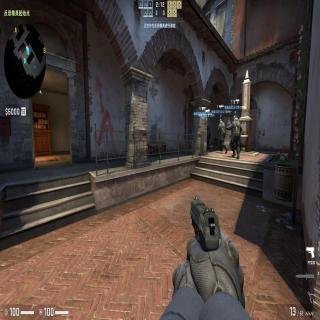CT-Body: (226, 115, 242, 159), (216, 119, 228, 153)
CT-Head: (232, 116, 238, 122), (219, 120, 223, 123)
